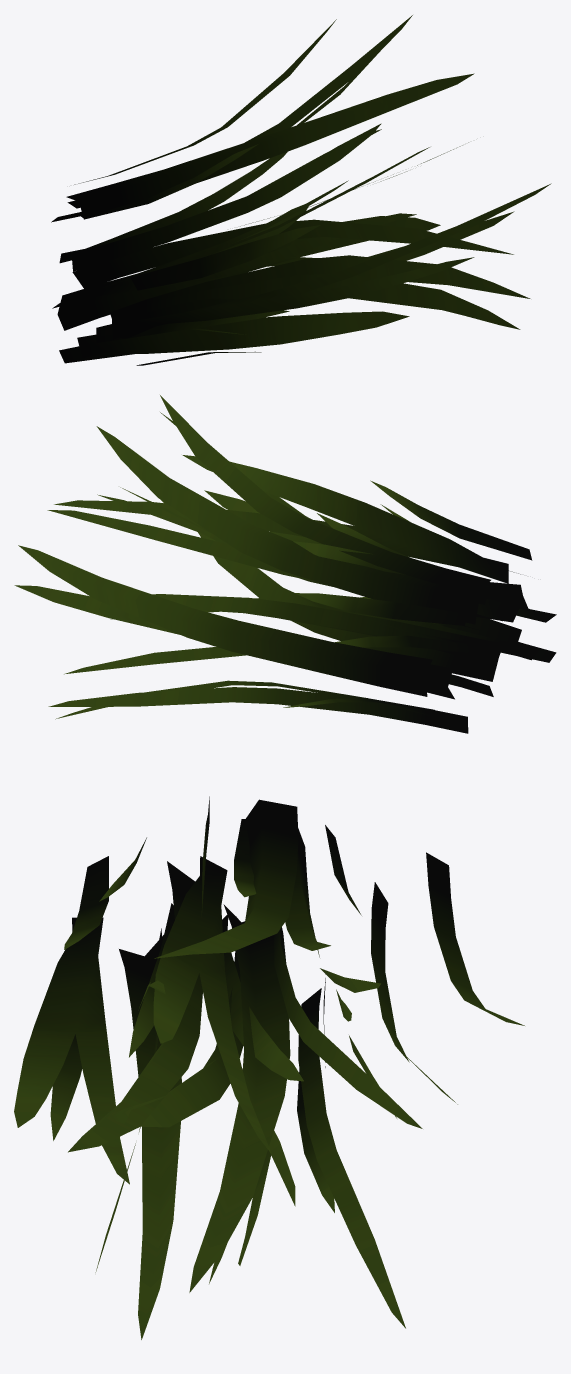
The model's file is grass.glb.
3 renders of one model, top to bottom at view 1: azimuth 30°, elevation 25°; view 2: azimuth 150°, elevation 25°; view 3: azimuth 270°, elevation 25°, orthographic. The views are drawn at different scales.
Visible parts, largest first — view 1: Grass_Common_Short4, Grass_Common_Short2, Grass_Common_Short, Grass_Common_Short3; view 2: Grass_Common_Short3, Grass_Common_Short, Grass_Common_Short2, Grass_Common_Short4; view 3: Grass_Common_Short3, Grass_Common_Short2, Grass_Common_Short4, Grass_Common_Short.
Boxes of the visible parts, bbox=[...] form: Grass_Common_Short4: bbox=[57, 73, 514, 363]; Grass_Common_Short2: bbox=[67, 15, 551, 365]; Grass_Common_Short: bbox=[71, 123, 520, 339]; Grass_Common_Short3: bbox=[51, 19, 513, 308]; Grass_Common_Short3: bbox=[18, 487, 521, 724]; Grass_Common_Short: bbox=[48, 455, 532, 733]; Grass_Common_Short2: bbox=[64, 412, 556, 696]; Grass_Common_Short4: bbox=[14, 395, 499, 699]; Grass_Common_Short3: bbox=[129, 819, 524, 1292]; Grass_Common_Short2: bbox=[14, 828, 330, 1339]; Grass_Common_Short4: bbox=[106, 799, 457, 1328]; Grass_Common_Short: bbox=[68, 796, 422, 1272].
Bounding box in the file's own units: 0.667 × 0.4126 × 0.4966.
Materials: 1 (1 with a texture image).
